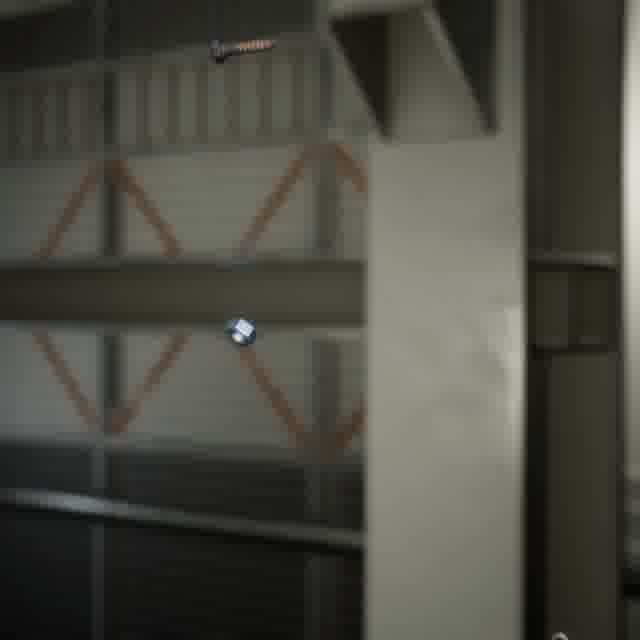bolt: (206, 32, 280, 68)
nut: (221, 313, 261, 350)
